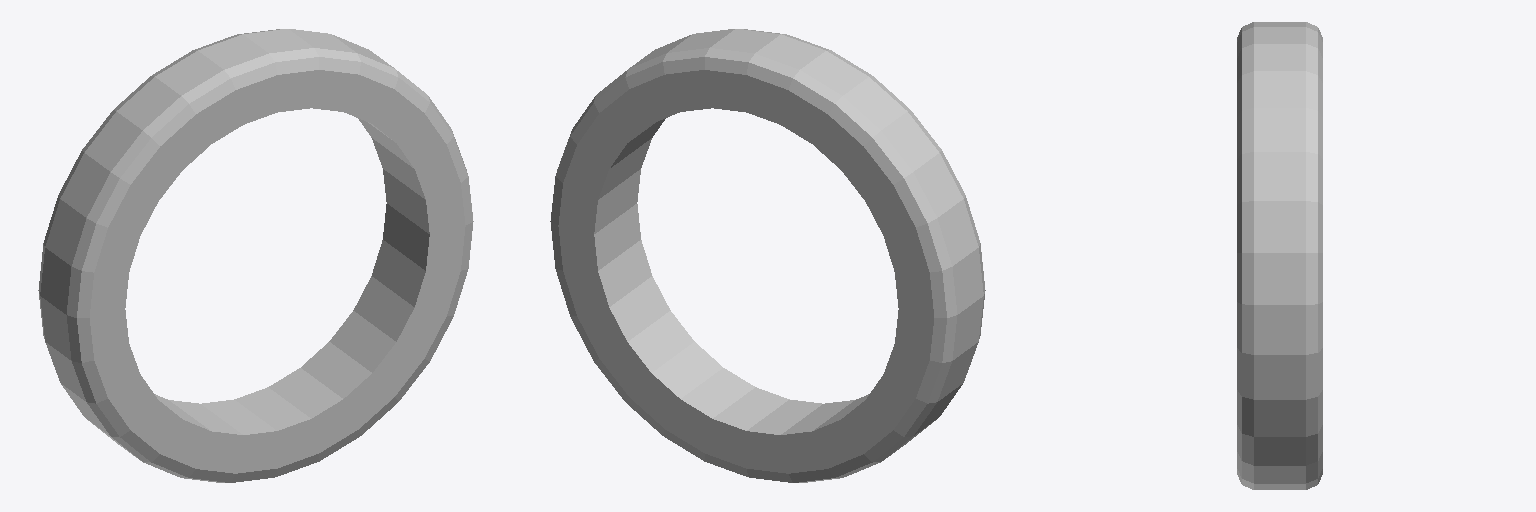
The model's file is RING4.obj.
The picture shows the model from 3 angles: view 1: azimuth 30°, elevation 25°; view 2: azimuth 150°, elevation 25°; view 3: azimuth 270°, elevation 25°; orthographic projection.
Parts seen in each view (by area): view 1: RING4; view 2: RING4; view 3: RING4.
Boxes of the visible parts, x1,y1,x2,y2 form: RING4: [38, 29, 473, 482]; RING4: [550, 29, 985, 482]; RING4: [1237, 22, 1322, 489].
Size of the model in its own units: 4.23 by 4.23 by 0.7811.